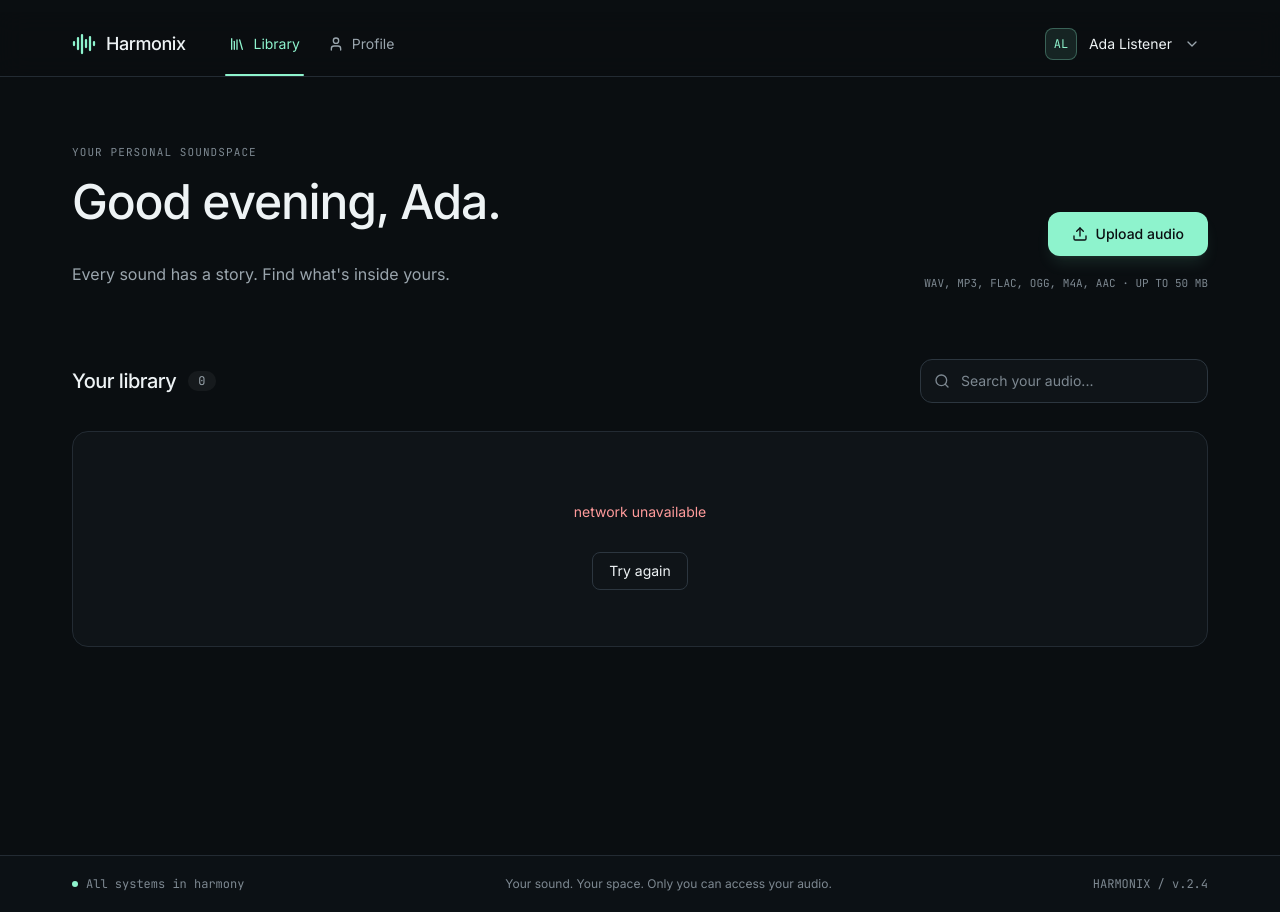
HomePage › shows a recoverable library error and retries the request
Expected: the message shows "network unavailable", [574,503,706,520]
Step 1. Click the button "Try again" → (640, 571), box [592,552,688,590]
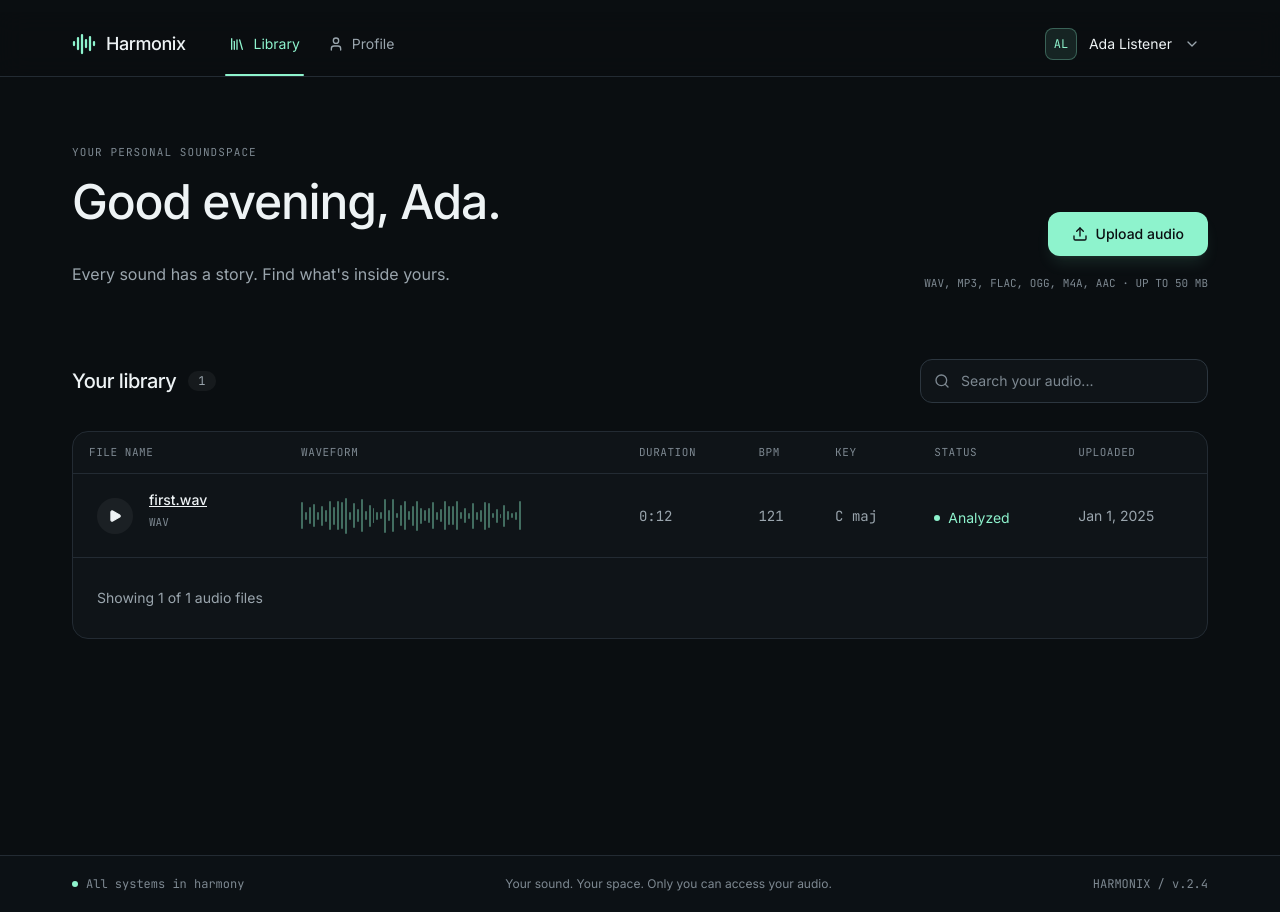
Result: the link "first.wav" is shown at [149,490,207,510]
